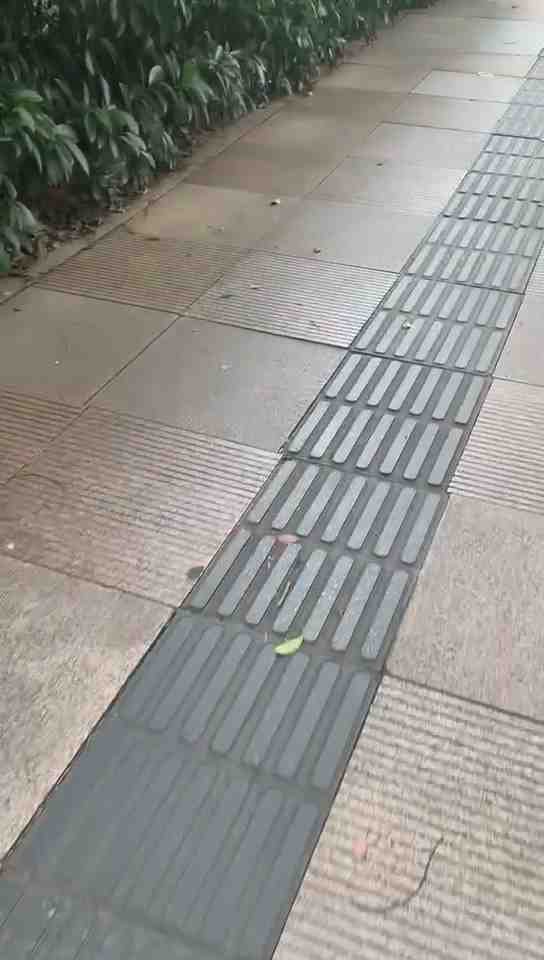leaf: (269, 633, 307, 659)
